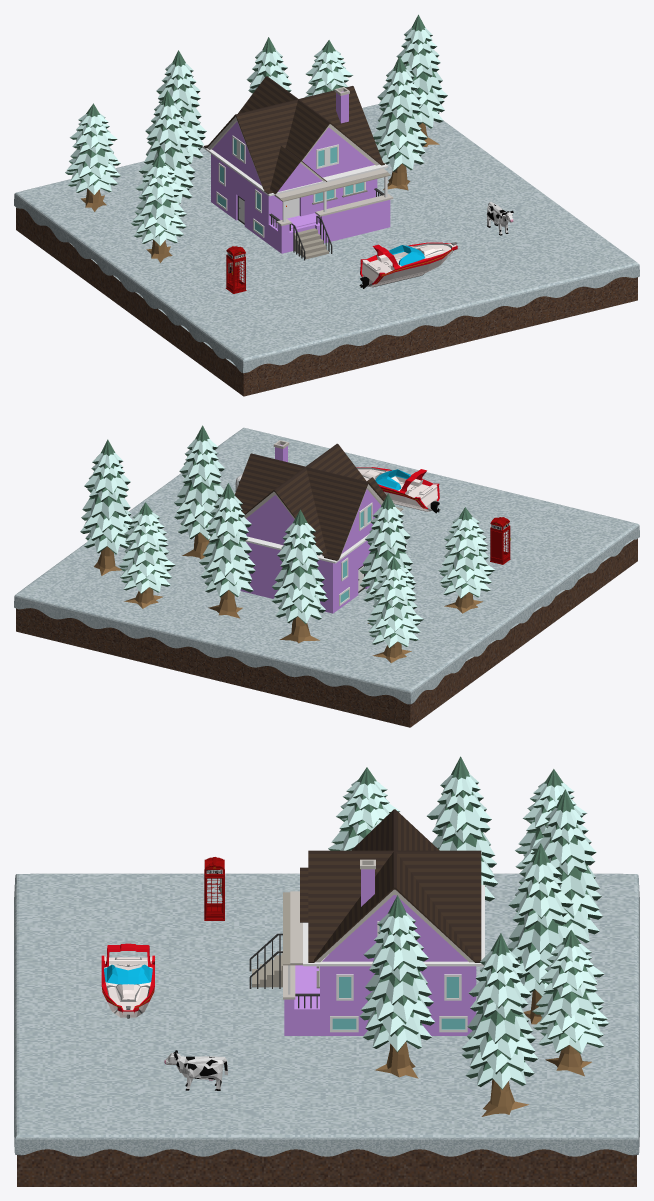
The picture shows the model from 3 angles, top to bottom: view 1: azimuth 30°, elevation 25°; view 2: azimuth 150°, elevation 25°; view 3: azimuth 270°, elevation 25°; orthographic projection. The views are drawn at different scales.
Visible parts, largest first — view 1: Cube.003, Cube.391, VEHICLES_BOAT, OBJRANDOM_PHONEBOOTH, ANIMAL_VACA; view 2: Cube.003, Cube.391, VEHICLES_BOAT, OBJRANDOM_PHONEBOOTH; view 3: Cube.003, Cube.391, VEHICLES_BOAT, ANIMAL_VACA, OBJRANDOM_PHONEBOOTH.
Part boxes in pixels (x1=…): Cube.003: x1=14, y1=14, x2=639, y2=396; Cube.391: x1=202, y1=76, x2=393, y2=260; VEHICLES_BOAT: x1=359, y1=242, x2=457, y2=288; OBJRANDOM_PHONEBOOTH: x1=225, y1=246, x2=246, y2=293; ANIMAL_VACA: x1=486, y1=202, x2=513, y2=235; Cube.003: x1=14, y1=425, x2=639, y2=727; Cube.391: x1=235, y1=440, x2=405, y2=613; VEHICLES_BOAT: x1=356, y1=467, x2=440, y2=513; OBJRANDOM_PHONEBOOTH: x1=490, y1=517, x2=510, y2=564; Cube.003: x1=14, y1=756, x2=639, y2=1186; Cube.391: x1=249, y1=809, x2=484, y2=1035; VEHICLES_BOAT: x1=101, y1=943, x2=154, y2=1018; ANIMAL_VACA: x1=164, y1=1050, x2=227, y2=1090; OBJRANDOM_PHONEBOOTH: x1=204, y1=857, x2=224, y2=920.
Bounding box in the file's own units: 4040 × 1708 × 4040.
36 materials, 3 textured.
